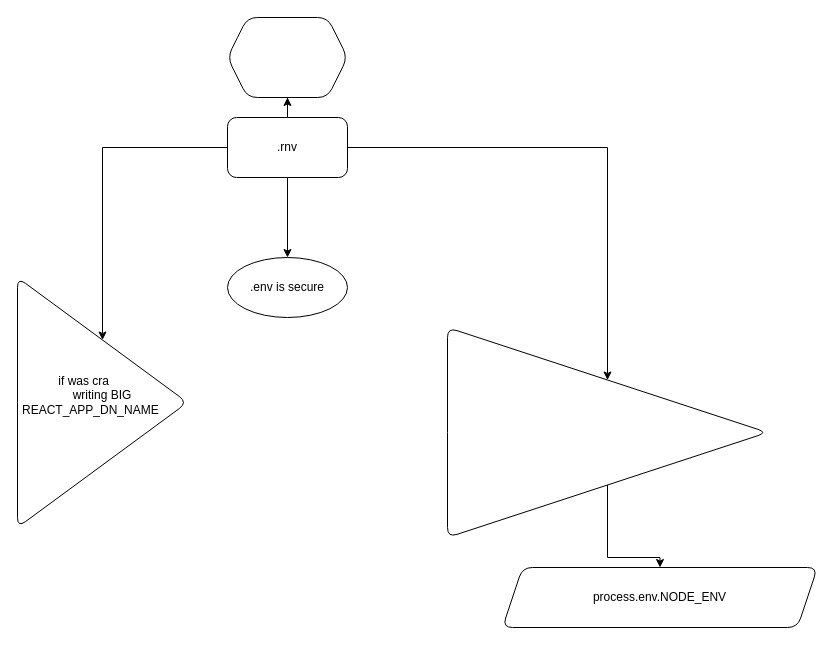
This 835x645 diagram has some shape labels left out. Here are the shapes that lost their labels. From the top down, the centre of each, then its label:
the point at 287,57: enviorment variables
the point at 607,432: but next ex: API_BASE_URL="https://fakestoreapi.com"
